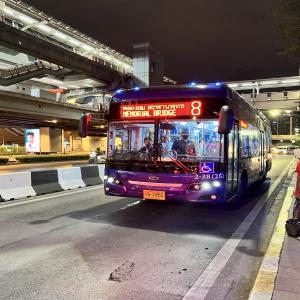Bus Line Number: (187, 98, 204, 118)
Bus Side Number: (193, 173, 226, 180)
Destination Sign: (121, 102, 187, 120)
TSB-Bus: (103, 82, 272, 206)
